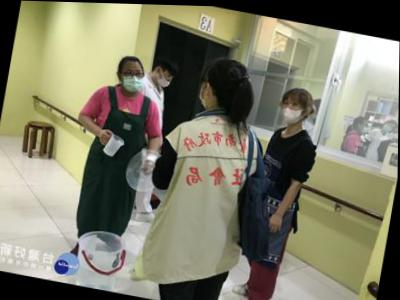OK: (279, 94, 306, 125), (197, 75, 218, 111), (121, 65, 146, 94), (361, 120, 371, 134), (385, 120, 394, 131)
WRONG: (157, 69, 177, 89)
